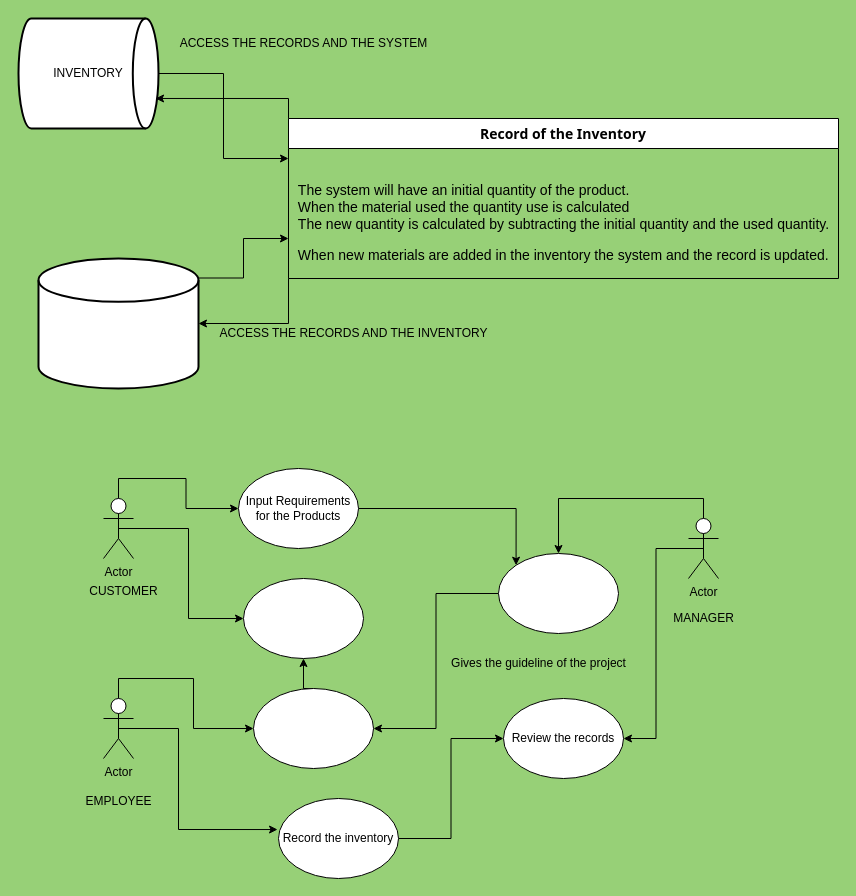
This 856x896 diagram has some shape labels left out. The centre of each missing label's shape, as x and y in pixels:
"Create the Product" belongs at [313,728].
"Review the product" belongs at [303,618].
"Review the requirements" belongs at [558,593].
"SYSTEM" belongs at [118,323].
